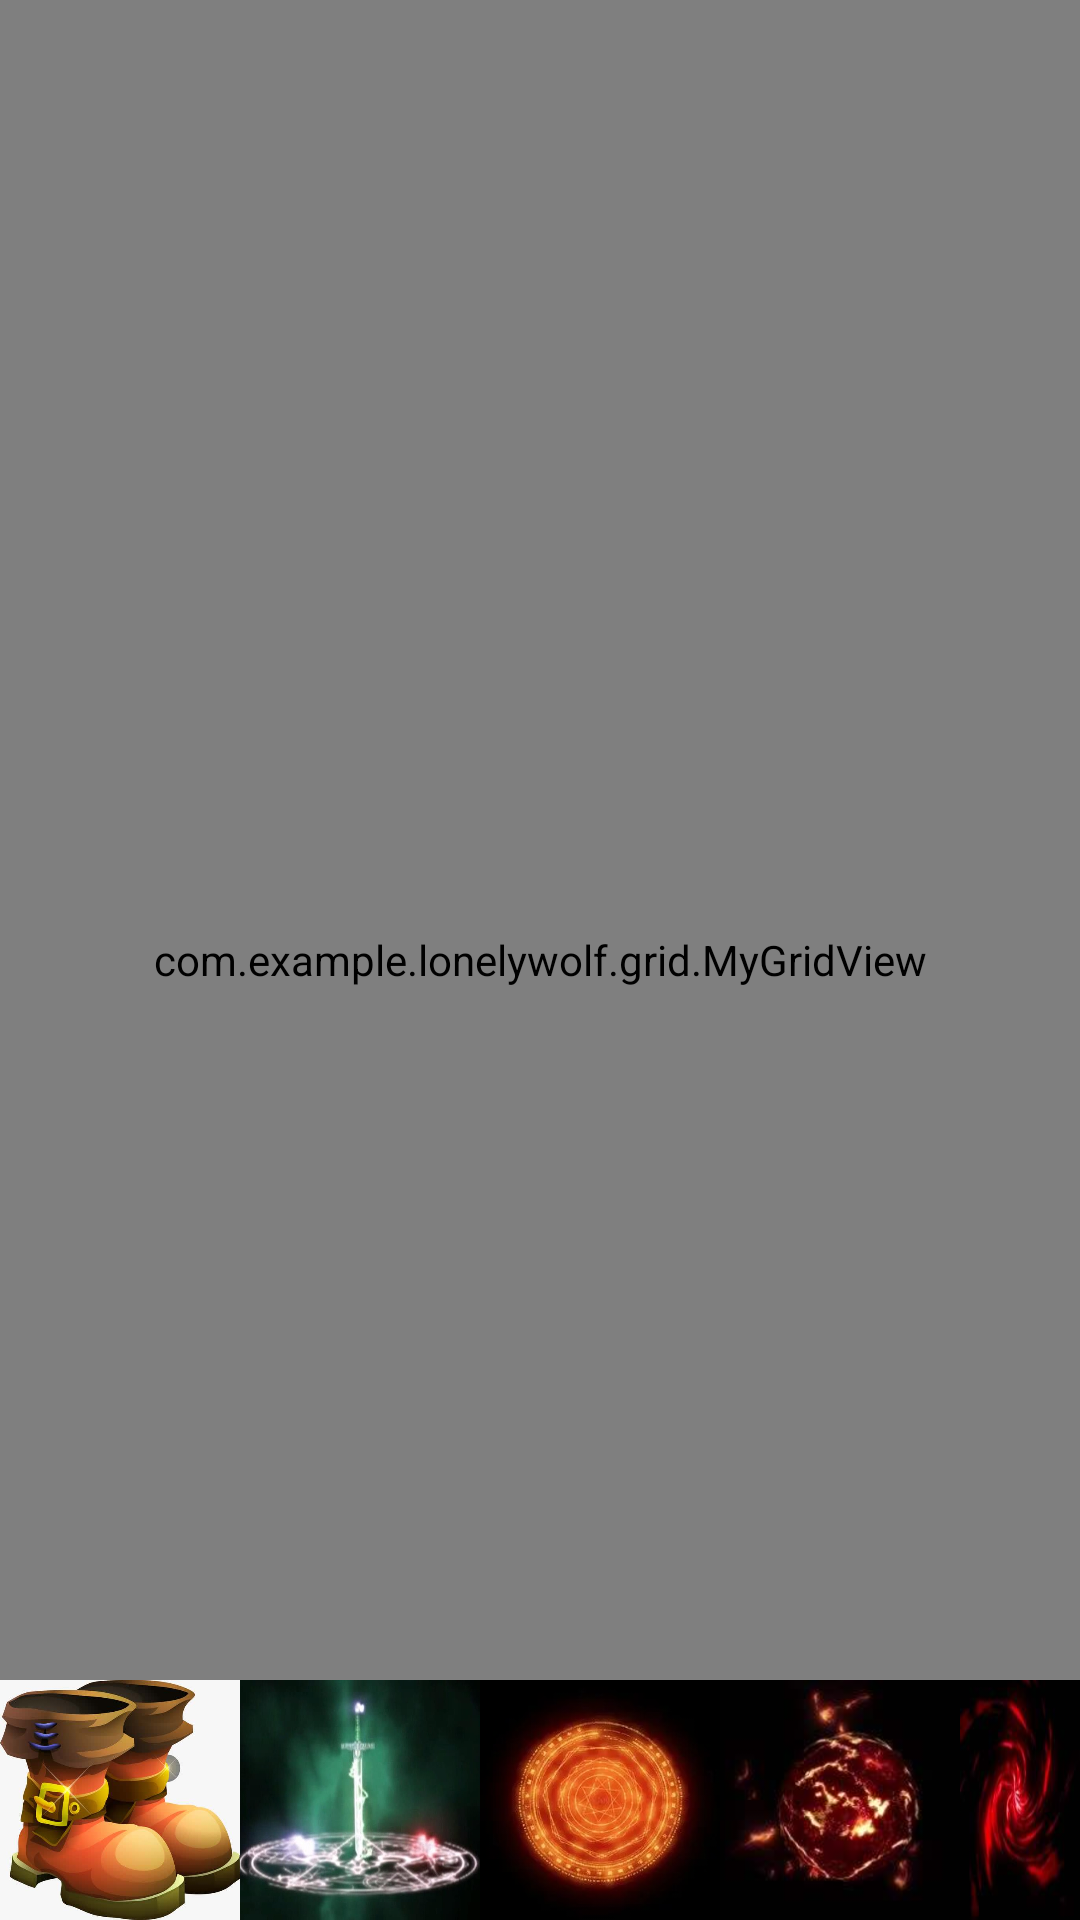

Icon click points for this 1080x1920 phone screenshot, format (x,y):
faqiuicon: (829,1790)
junwangjian: (360,1800)
shoe: (120,1800)
